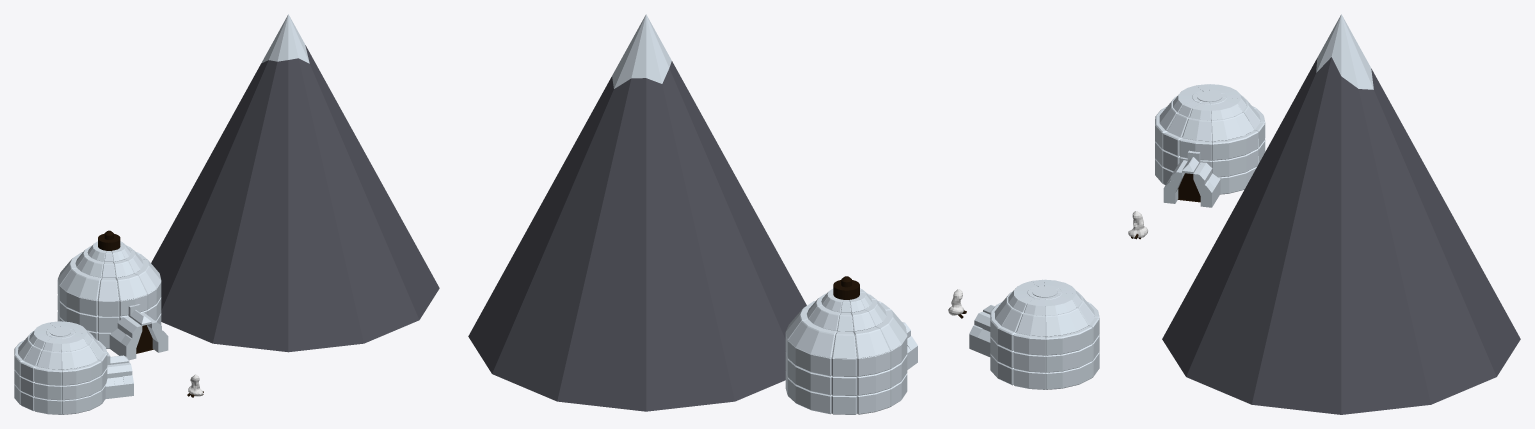
The model's file is mountlvl1.fbx.
3 views of the same model, side by side, from view 1: azimuth 30°, elevation 25°; view 2: azimuth 150°, elevation 25°; view 3: azimuth 270°, elevation 25° (orthographic). The views are drawn at different scales.
Parts seen in each view (by area): view 1: Cone, Cube.001, Cylinder.001, Cube.007, Cone.001, Cube.031; view 2: Cone, Cube.001, Cylinder.001, Cone.001, Cube.031; view 3: Cone, Cylinder.001, Cone.001, Cube.031, Plane.002.
Boxes of the visible parts, x1,y1,x2,y2 form: Cone: (151,45,439,352); Cube.001: (57,230,161,348); Cylinder.001: (14,321,107,414); Cube.007: (109,304,168,360); Cone.001: (261,14,309,63); Cube.031: (105,352,133,399); Cone: (468,61,806,411); Cube.001: (785,276,907,414); Cylinder.001: (990,279,1099,389); Cone.001: (612,14,671,88); Cube.031: (969,305,994,356); Cone: (1162,57,1520,414); Cylinder.001: (1155,84,1265,194); Cone.001: (1316,14,1373,89); Cube.031: (1163,150,1220,207); Plane.002: (1178,173,1200,202).
Size of the model in its own units: 5793 by 3356 by 3651.
